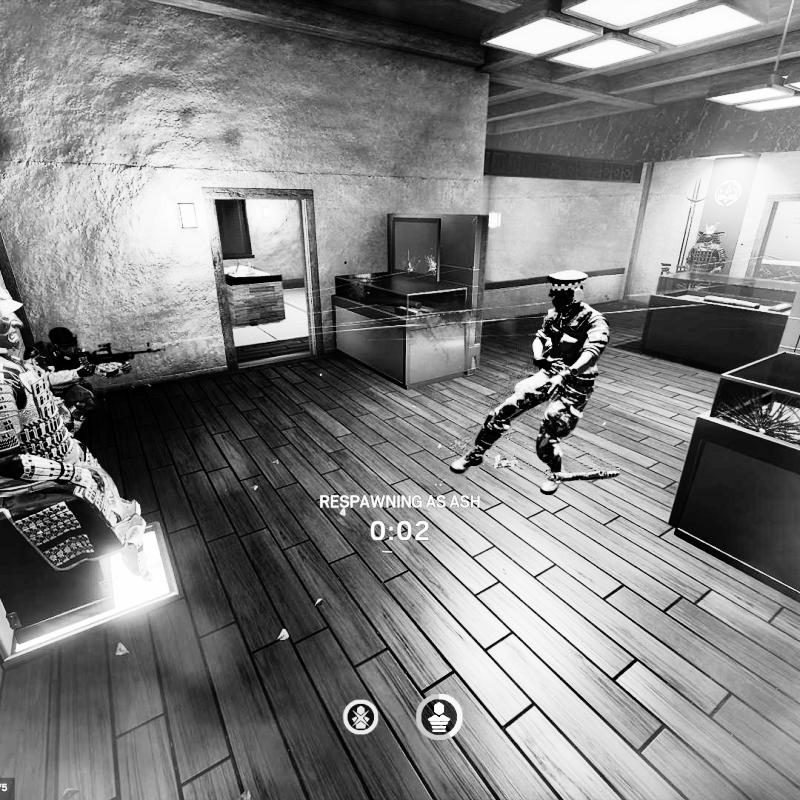Character: (448, 268, 614, 497), (27, 325, 169, 439)
Head: (548, 271, 590, 315), (48, 326, 81, 358)
